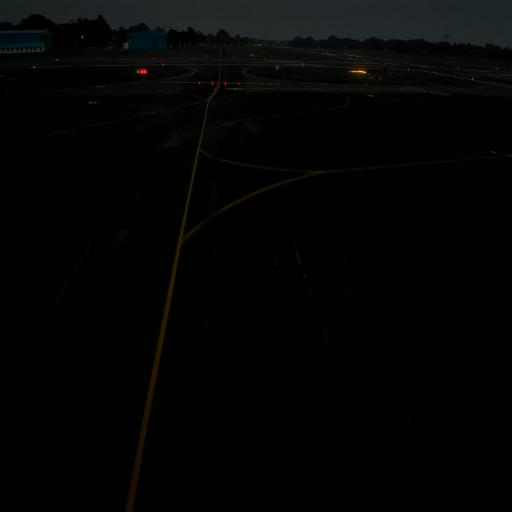on: (223, 80, 228, 88), (211, 79, 214, 88), (198, 80, 201, 87), (237, 80, 240, 86)
